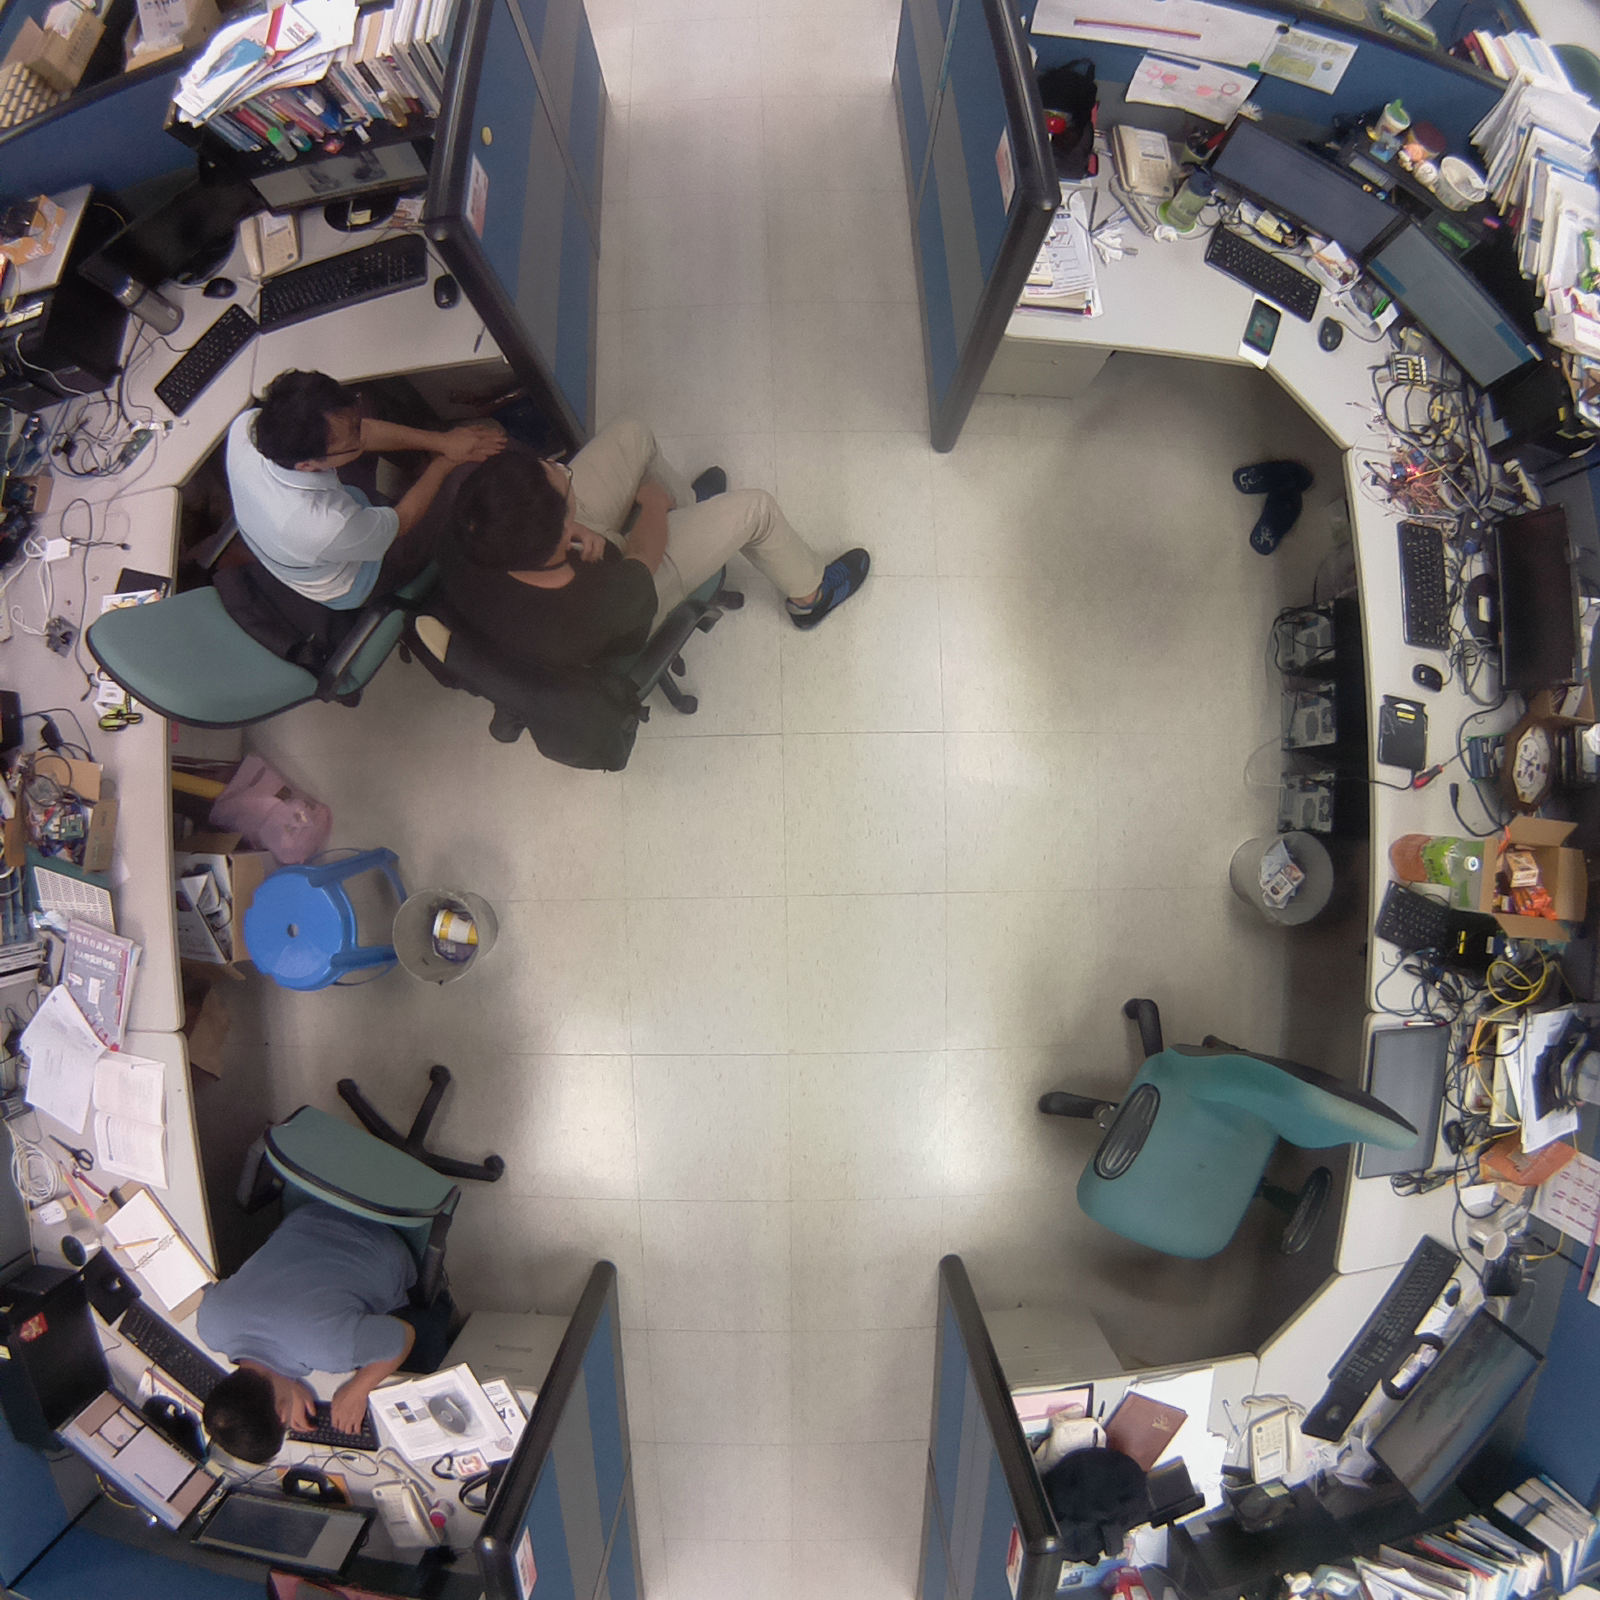chair: (1014, 970, 1447, 1288)
head: (443, 436, 583, 576), (248, 363, 372, 480), (188, 1363, 301, 1471)
sitting: (445, 411, 876, 772), (176, 1042, 514, 1474), (76, 358, 433, 747)
